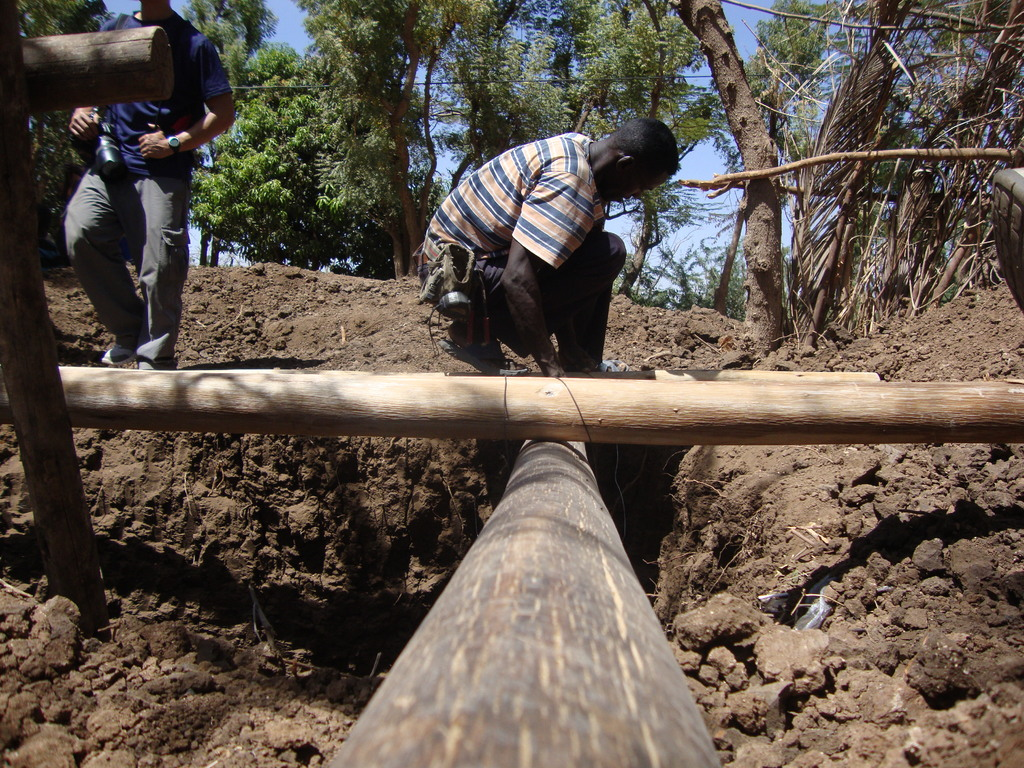Tree: (177, 1, 728, 298)
